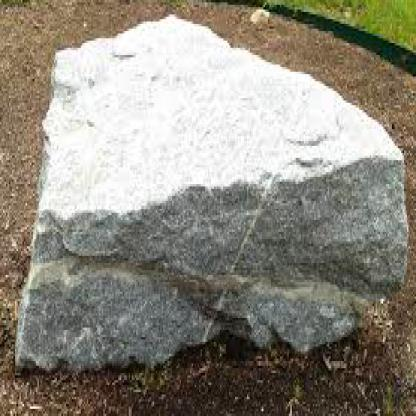Igneous_Diorite: (100, 82, 356, 320)
